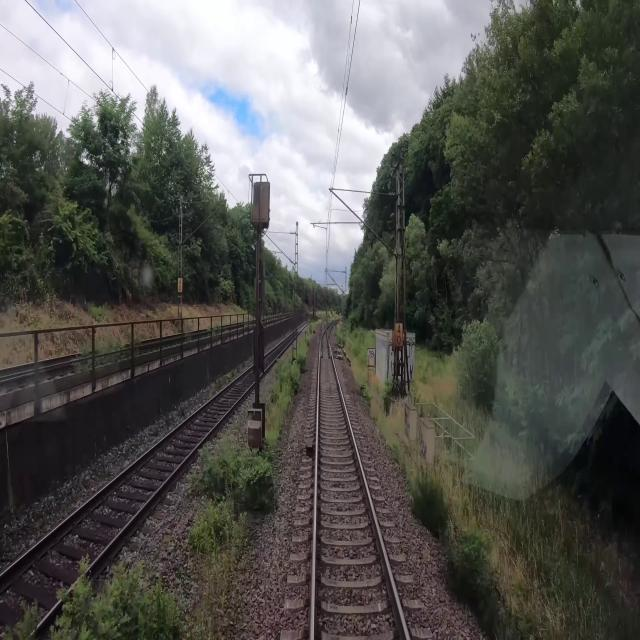Plant: (185, 448, 276, 639), (42, 553, 184, 639), (265, 322, 316, 450), (0, 595, 49, 639)
